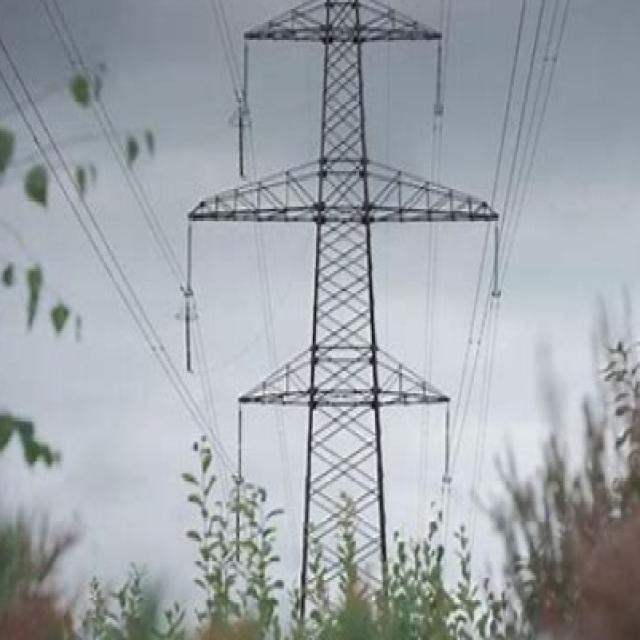utility poles: (195, 331, 467, 639)
